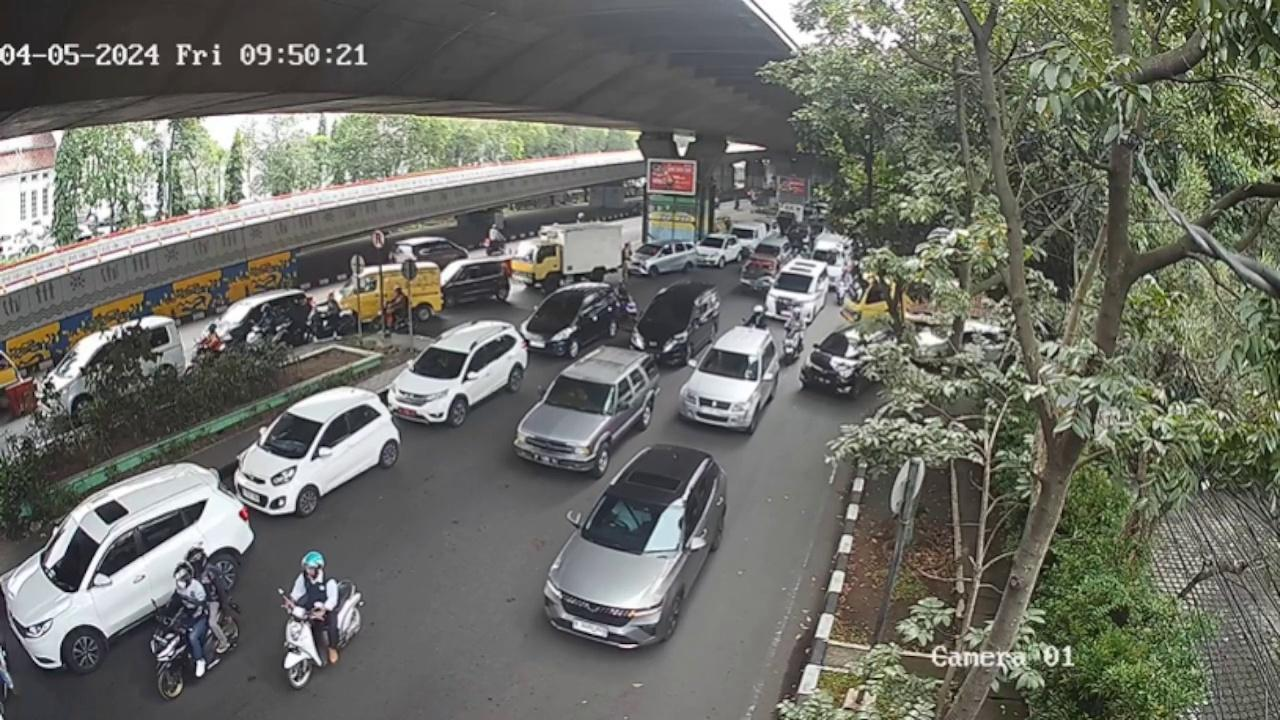pakai: (610, 496, 648, 540)
windshield: (576, 491, 686, 555), (257, 409, 324, 460), (696, 342, 763, 383), (540, 382, 618, 415), (404, 348, 466, 383)
